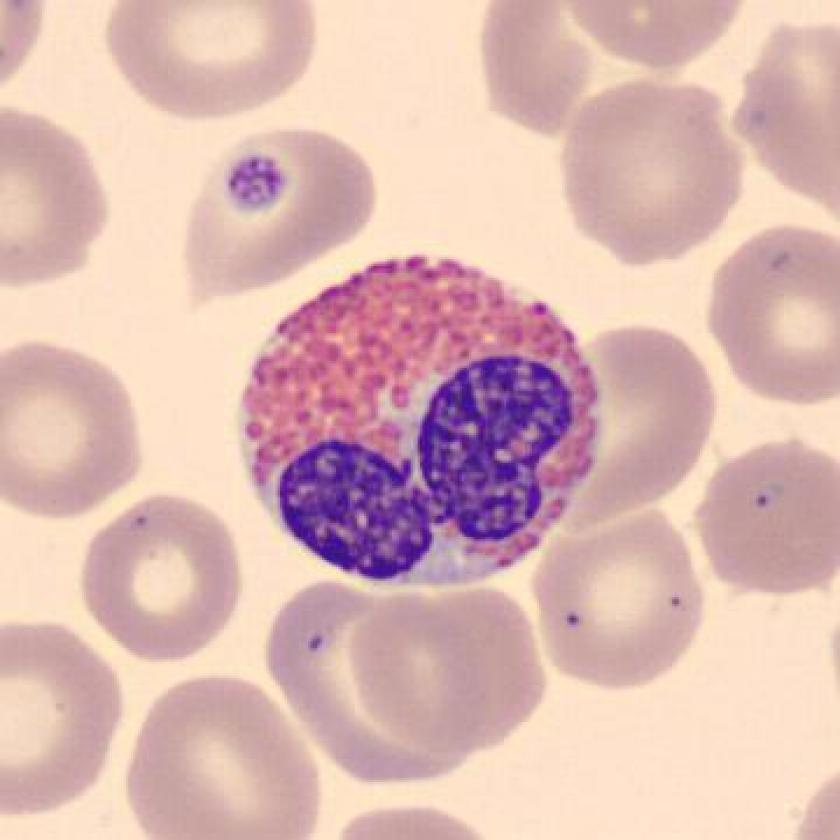eosinophil: (230, 242, 612, 603)
